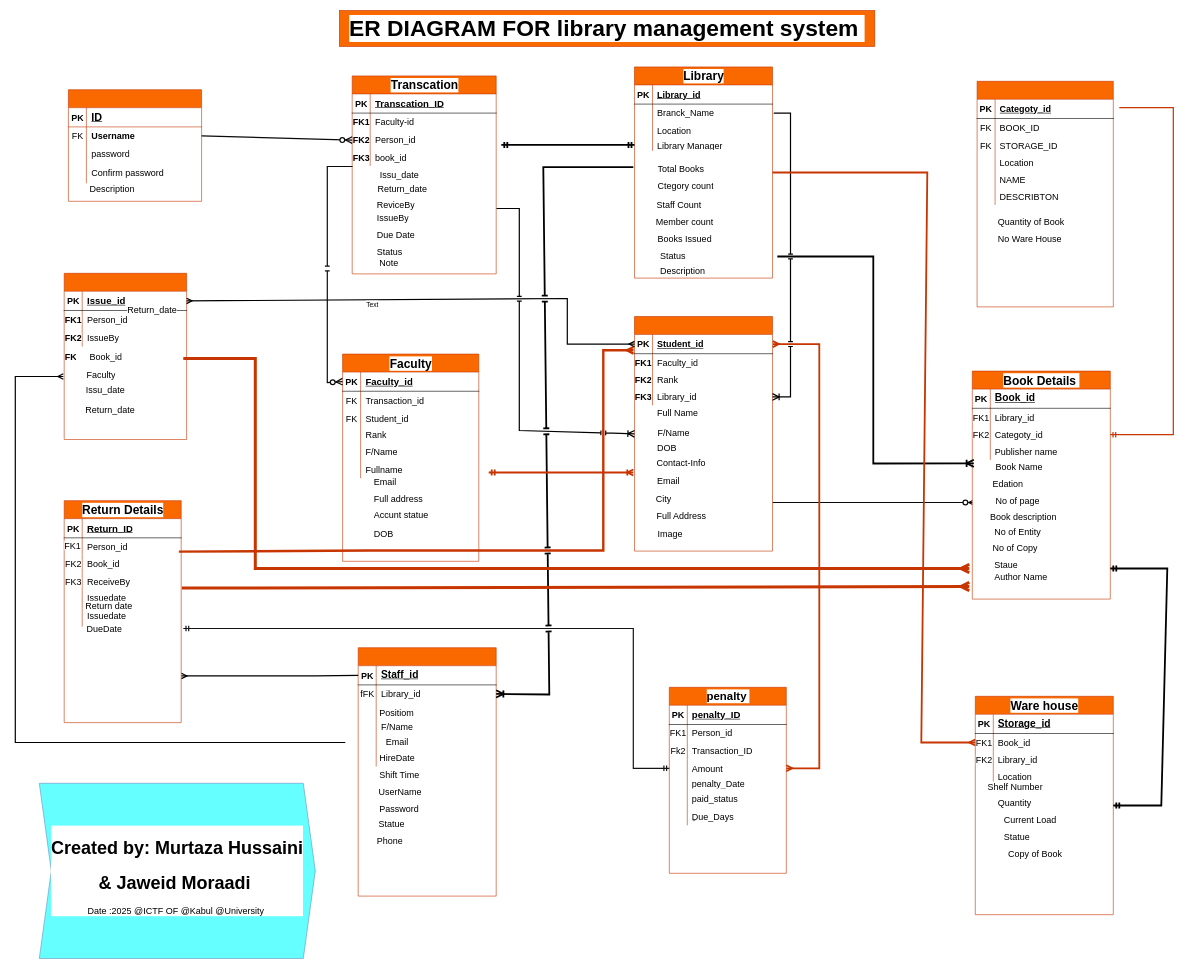
Some shapes in this 1189 by 969 pixel diagram are drawn without their labels. Here are the shapes that lost their labels. From the top down, the box of each, then its label:
(68, 89, 202, 201): Registration
(976, 81, 1113, 307): Category
(64, 273, 187, 440): Issue Details
(634, 316, 772, 551): Students
(358, 647, 496, 896): Library Staff
